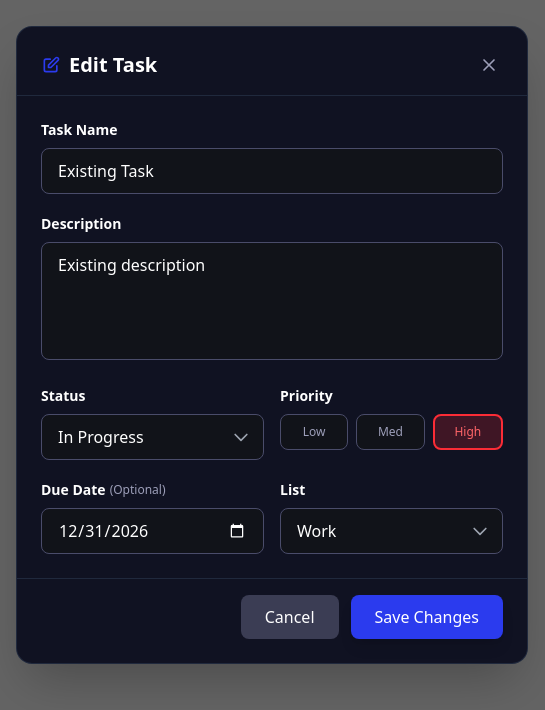
Test: EditTaskModal - Integration Tests › should validate required task name field
Note: Clear task name
Clear the field named "taskName" at (272,171), box [41,148,503,194]
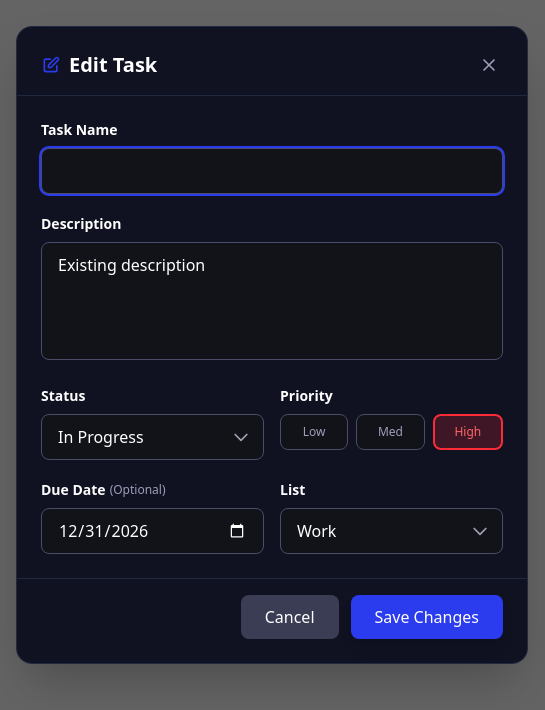
Note: Try to submit
Click the button "Save Changes" at (427,617), box [350,595,503,639]
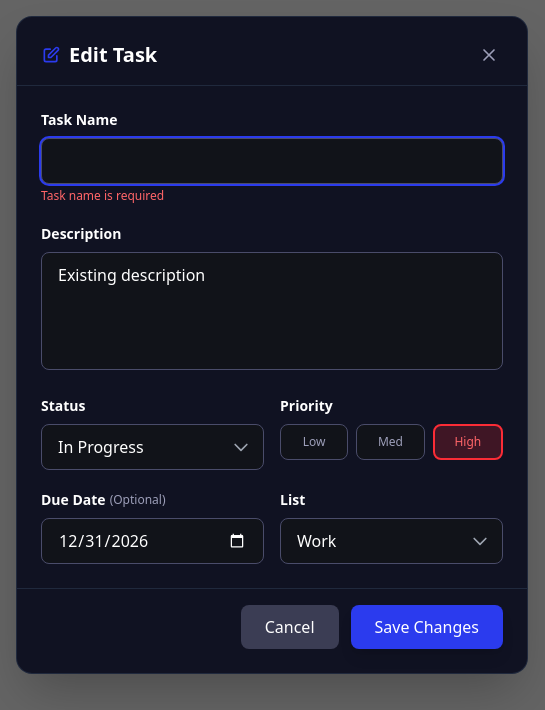
Now the text "Task name is required" is shown, box [41,187,164,204]
